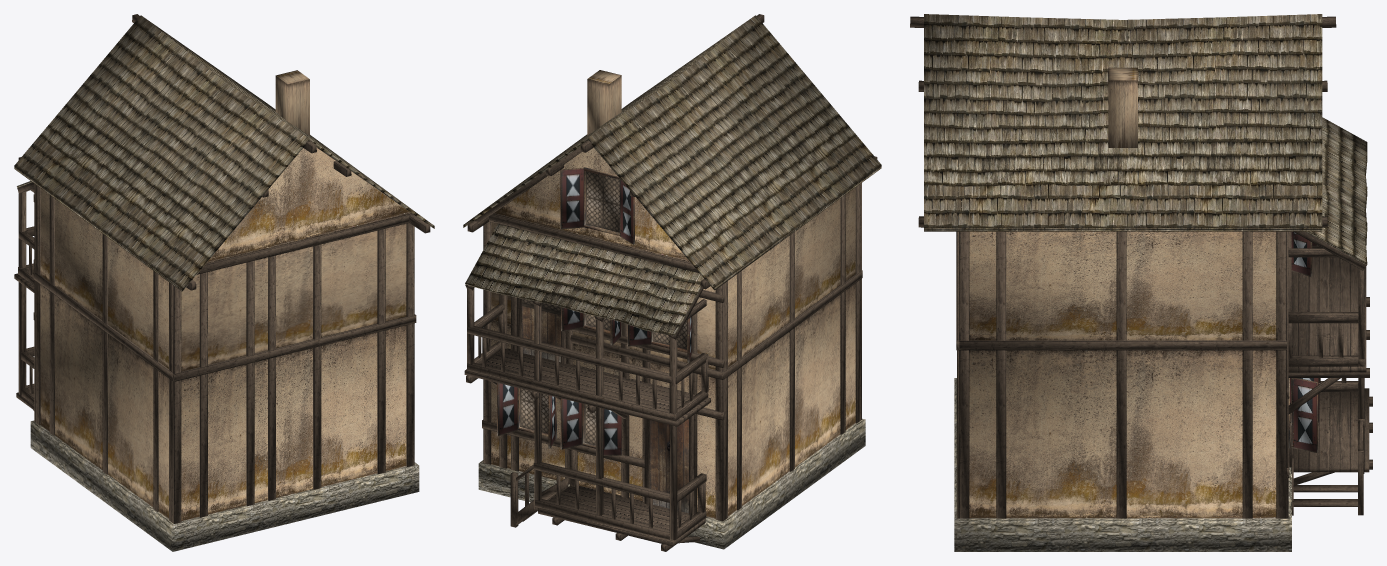
File: house3.dae
3 renders of one model, left to right at view 1: azimuth 30°, elevation 25°; view 2: azimuth 150°, elevation 25°; view 3: azimuth 270°, elevation 25°, orthographic. The views are drawn at different scales.
Visible parts, largest first — view 1: meshU3D; view 2: meshU3D; view 3: meshU3D.
Boxes of the visible parts, x1,y1,x2,y2 form: meshU3D: (14,14,434,551); meshU3D: (463,14,881,551); meshU3D: (910,14,1372,551).
Bounding box in the file's own units: 8.2 × 12.21 × 10.97.
